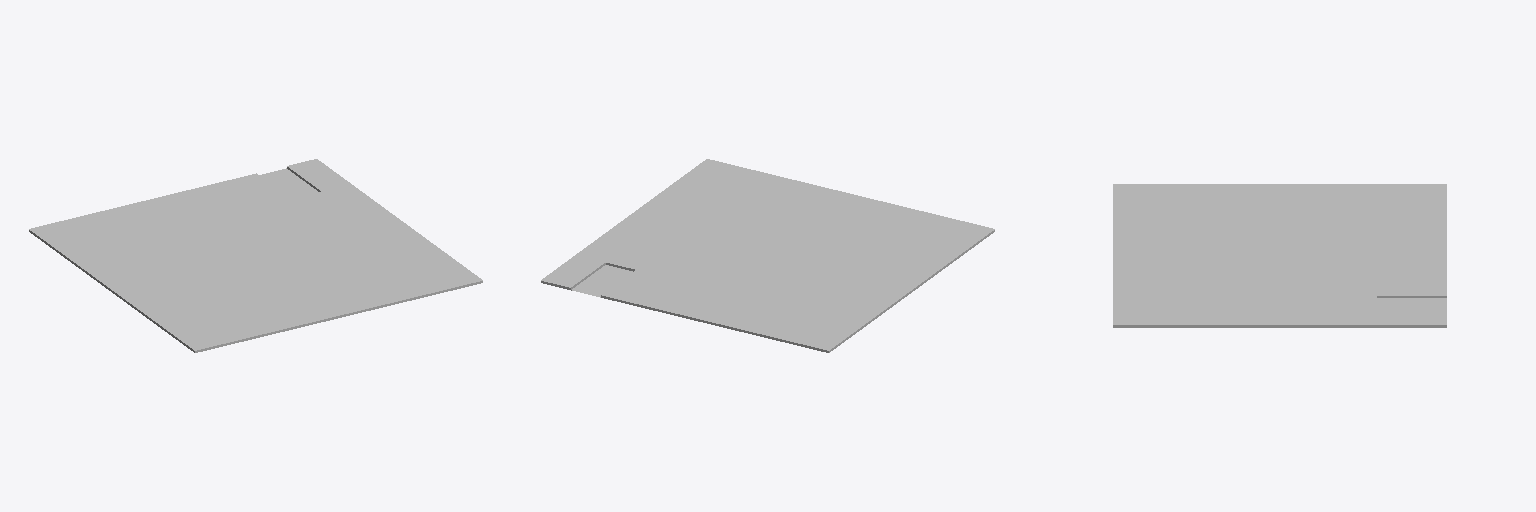
File: Betonboden.obj
3 views of the same model, side by side, from view 1: azimuth 30°, elevation 25°; view 2: azimuth 150°, elevation 25°; view 3: azimuth 270°, elevation 25° (orthographic).
Visible parts, largest first — view 1: Mesh1 Component_1 G_1_Betonboden_dwg1 Model; view 2: Mesh1 Component_1 G_1_Betonboden_dwg1 Model; view 3: Mesh1 Component_1 G_1_Betonboden_dwg1 Model.
Boxes of the visible parts, box(x1,y1,x2,y2) form: Mesh1 Component_1 G_1_Betonboden_dwg1 Model: box(29, 159, 482, 352); Mesh1 Component_1 G_1_Betonboden_dwg1 Model: box(541, 159, 994, 352); Mesh1 Component_1 G_1_Betonboden_dwg1 Model: box(1113, 184, 1446, 327).
Size of the model in its own units: 900 by 7.1 by 900.